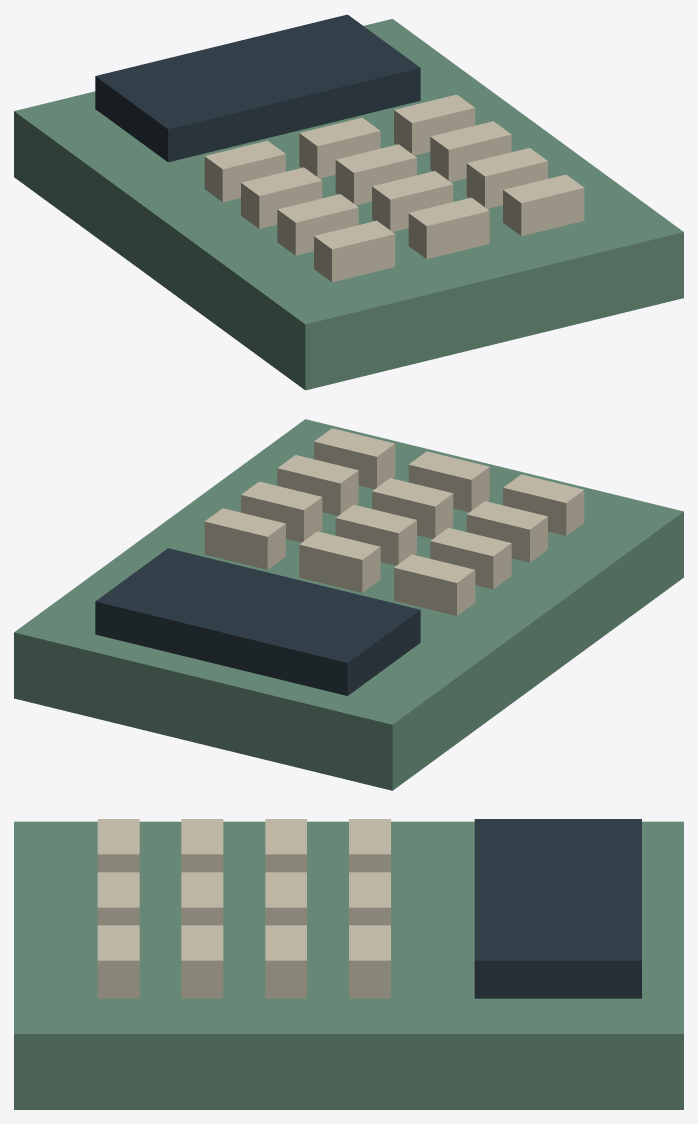
The model's file is finance-09.glb.
3 views of the same model, one above another, from view 1: azimuth 30°, elevation 25°; view 2: azimuth 150°, elevation 25°; view 3: azimuth 270°, elevation 25° (orthographic). The views are drawn at different scales.
Visible parts, largest first — view 1: Calculator; view 2: Calculator; view 3: Calculator.
Boxes of the visible parts, box(x1,y1,x2,y2) form: Calculator: box(14, 14, 683, 390); Calculator: box(14, 419, 683, 790); Calculator: box(14, 819, 683, 1109).
Bounding box in the file's own units: 0.96 × 0.24 × 1.28.
